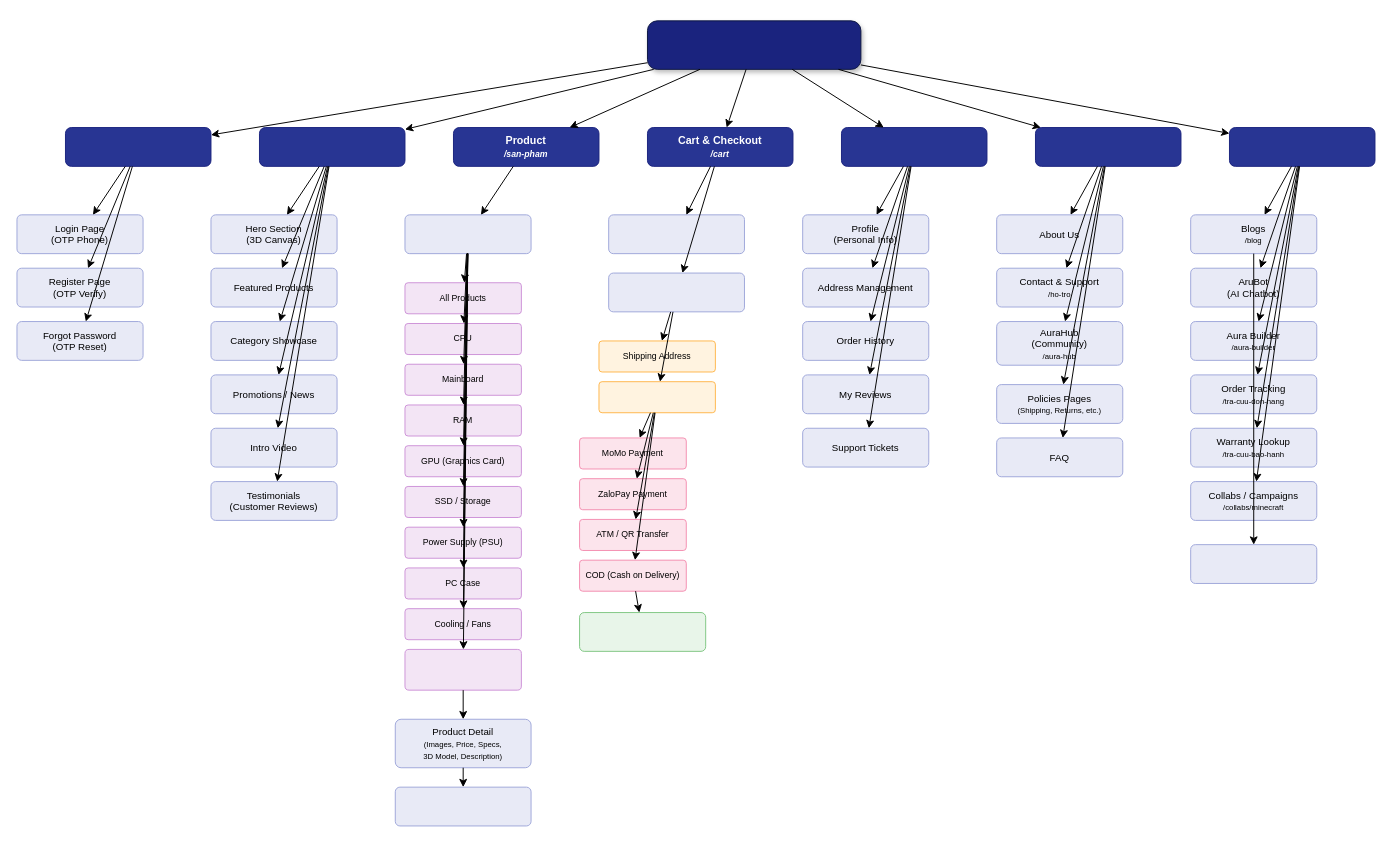
This 1392x843 diagram has some shape labels left out. The shapes that lost their labels are listed below. From the top down, each one's centre as x and y in pixels, then its label:
At (x=755, y=46): "AuraPC Client Site".
At (x=138, y=146): "Login / Register".
At (x=332, y=146): "Homepage /".
At (x=914, y=146): "Account /tai-khoan".
At (x=1108, y=146): "About AuraPC /ve-aurapc".
At (x=1302, y=146): "Other Pages".
At (x=467, y=234): "Product Categories".
At (x=676, y=234): "Cart Summary (Items, Quantities, Totals)".
At (x=676, y=292): "Checkout /checkout".
At (x=656, y=397): "Payment Method".
At (x=1253, y=563): "Blog Detail /blog/:slug".
At (x=642, y=631): "Order Success /checkout-success".
At (x=462, y=669): "Peripherals (Keyboard, Mouse, Monitor)".
At (x=462, y=806): "Product Reviews & Ratings".
